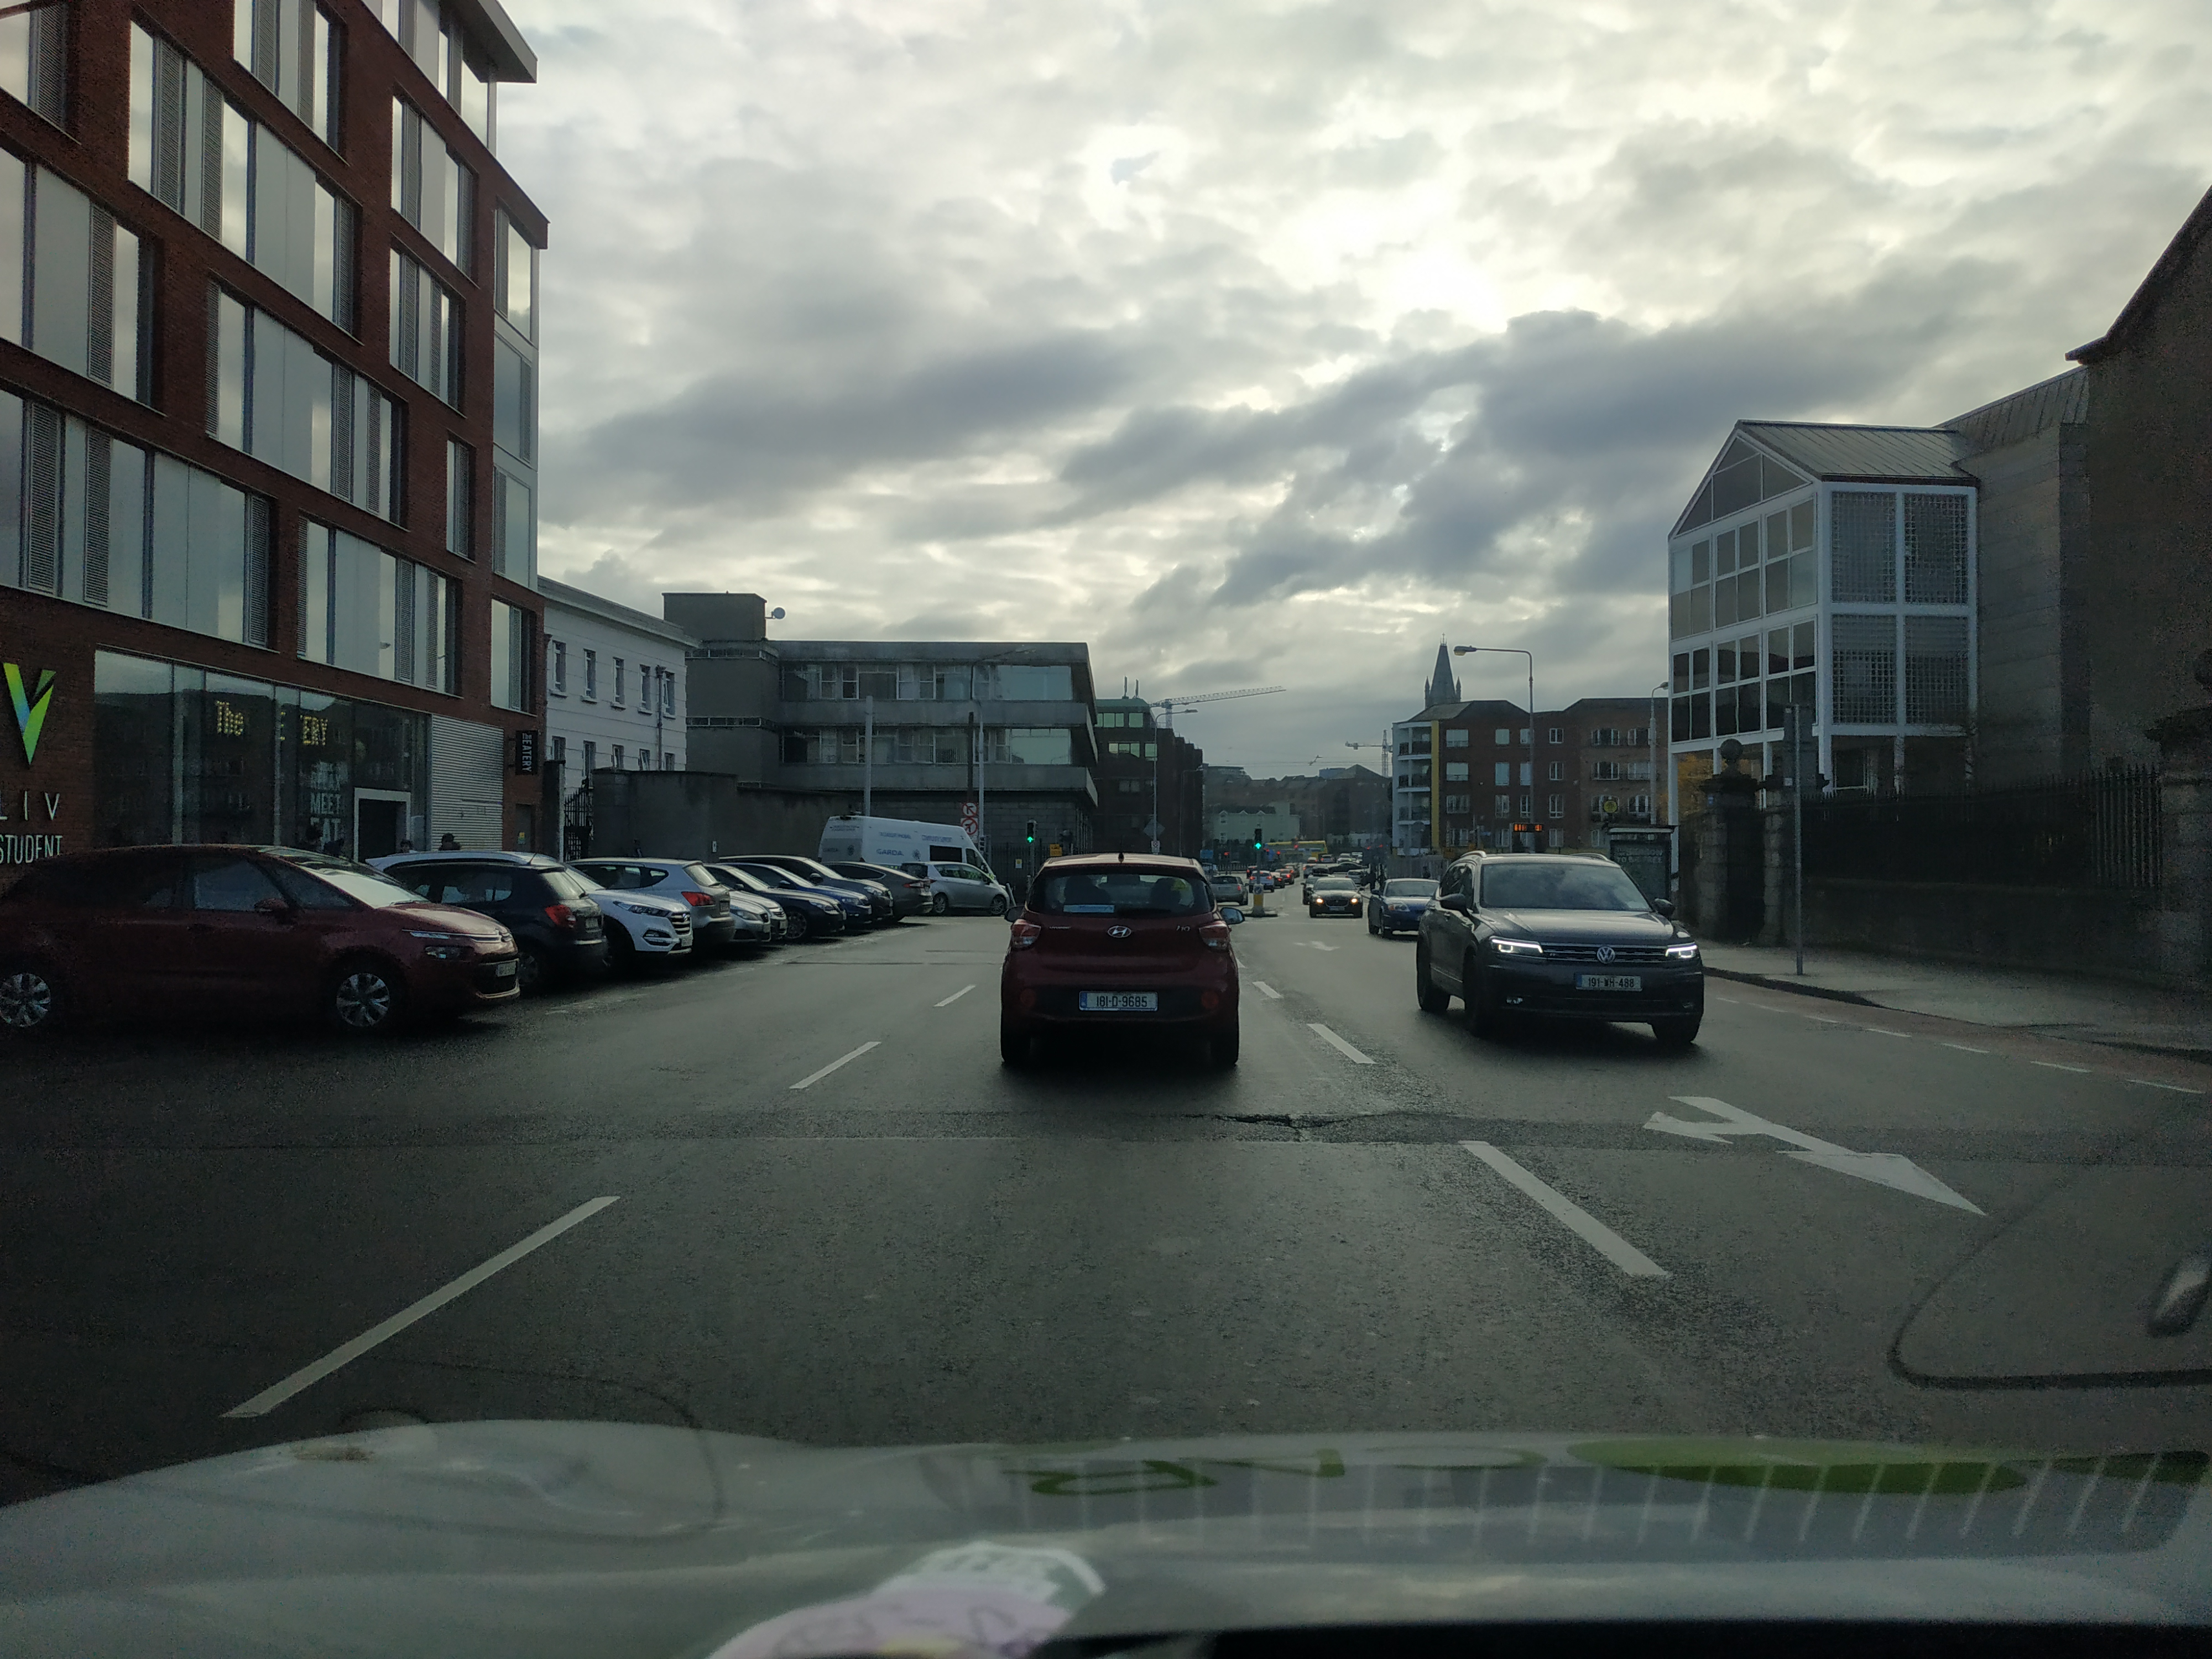Car: (0, 843, 523, 1035), (1416, 850, 1703, 1042), (1000, 852, 1245, 1066), (329, 850, 611, 992), (388, 854, 693, 972), (895, 863, 1010, 917), (1367, 878, 1449, 938), (1306, 878, 1364, 918)
Garda_Van: (817, 816, 996, 910)
